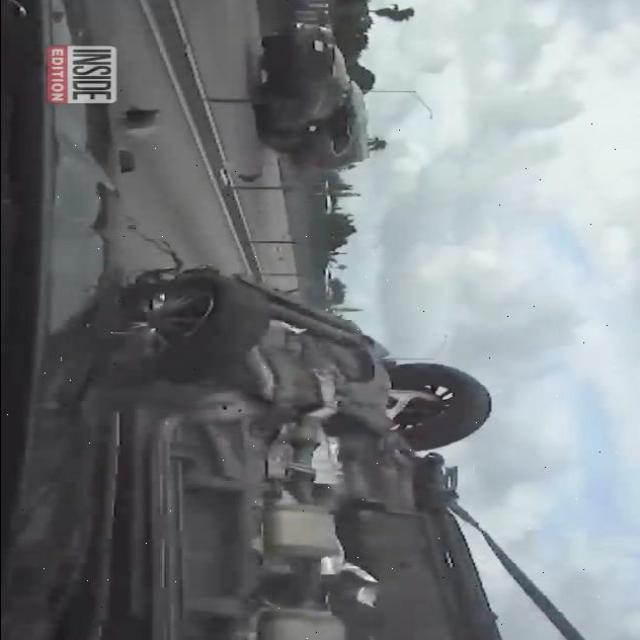accident: (102, 268, 493, 640), (246, 21, 394, 183)
